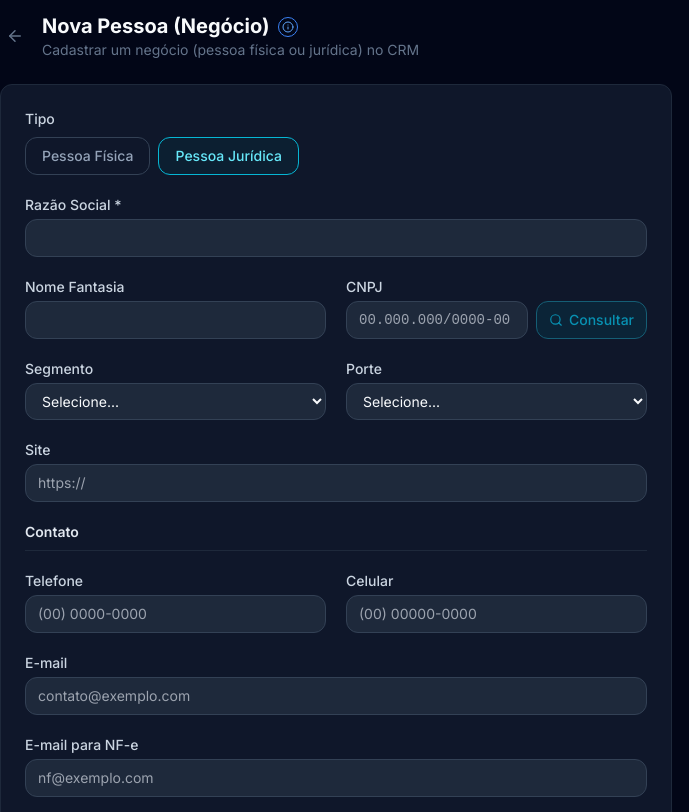
Scenario: NovaPessoaPage › consulta CNPJ e preenche os campos automaticamente (PJ)
Expected: the heading "Nova Pessoa (Negócio)" is shown, [42, 14, 298, 38]
Type "12.345.678/0001-90" into the field with placeholder "00.000.000/0000-00".
click(437, 320); type("12.345.678/0001-90")  # box [346, 301, 528, 339]
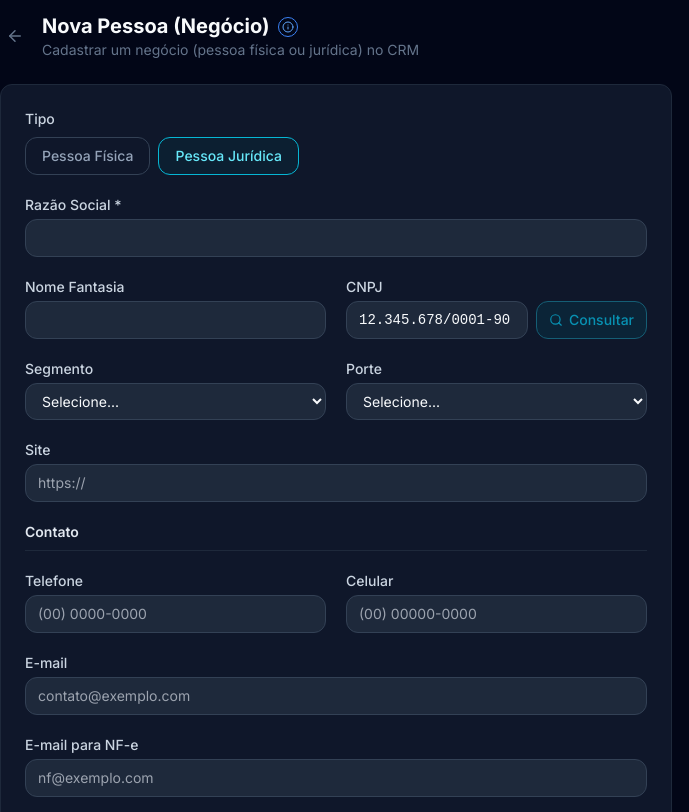
Click the button "Consultar".
click(592, 320)  # box [536, 301, 647, 339]
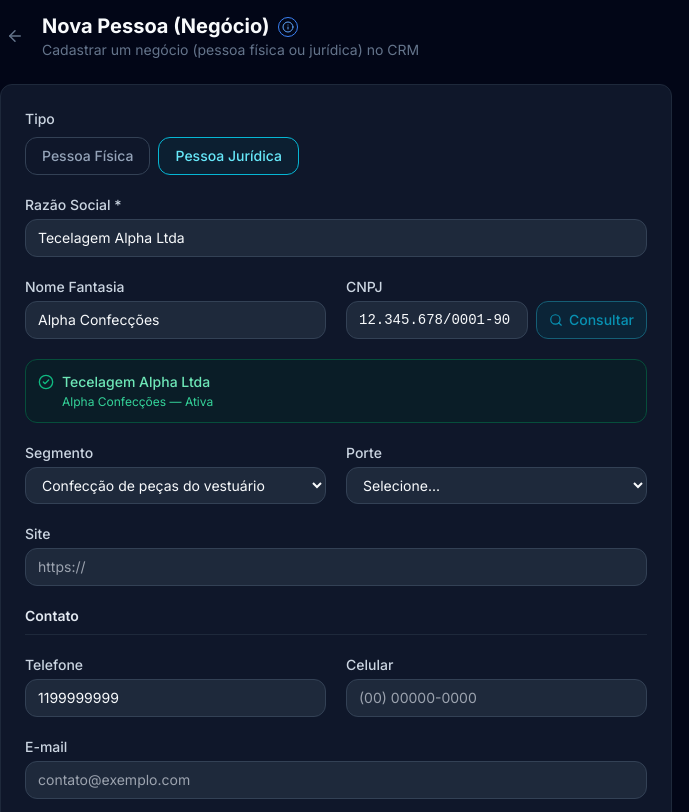
Expected: the field showing "Tecelagem Alpha Ltda" below "Razão Social *" is shown, [25, 219, 647, 257]
Expected: the field showing "Alpha Confecções" below "Nome Fantasia" is shown, [25, 301, 326, 339]
Expected: the dropdown showing "Confecção de peças do vestuário" below "Segmento" is shown, [25, 467, 326, 504]
